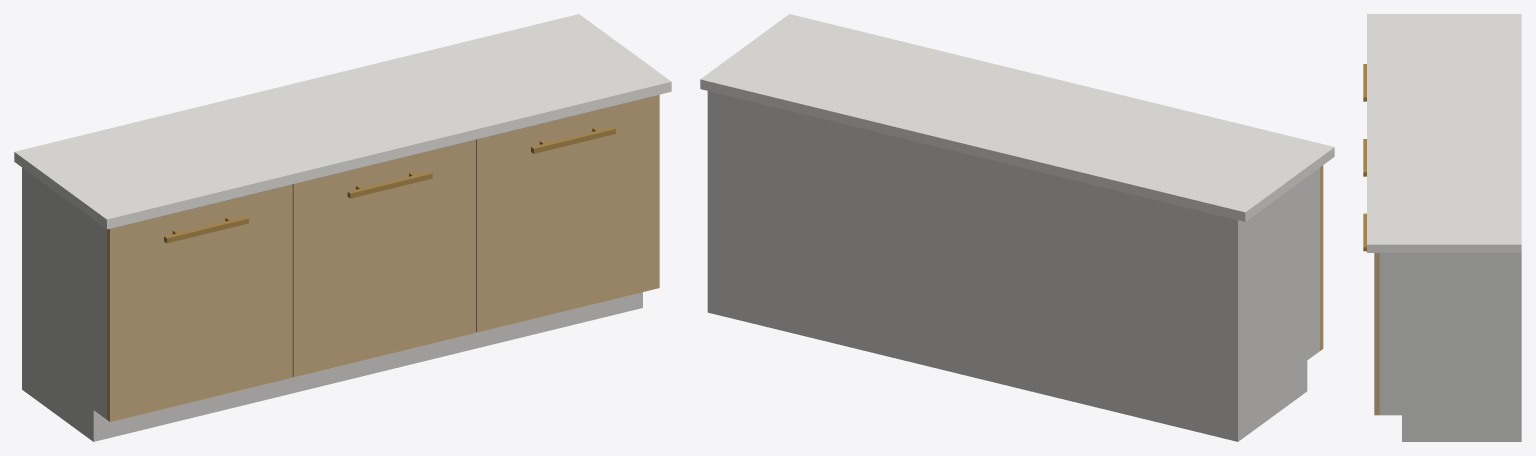
The model's file is min-002-reception-credenza.glb.
3 views of the same model, side by side, from view 1: azimuth 30°, elevation 25°; view 2: azimuth 150°, elevation 25°; view 3: azimuth 270°, elevation 25° (orthographic). The views are drawn at different scales.
Visible parts, largest first — view 1: Reception credenza; view 2: Reception credenza; view 3: Reception credenza.
Part boxes in pixels (bbox=[...]): Reception credenza: bbox=[14, 14, 671, 441]; Reception credenza: bbox=[700, 14, 1334, 441]; Reception credenza: bbox=[1363, 14, 1521, 441].
Bounding box in the file's own units: 1.88 × 0.762 × 0.5461.
